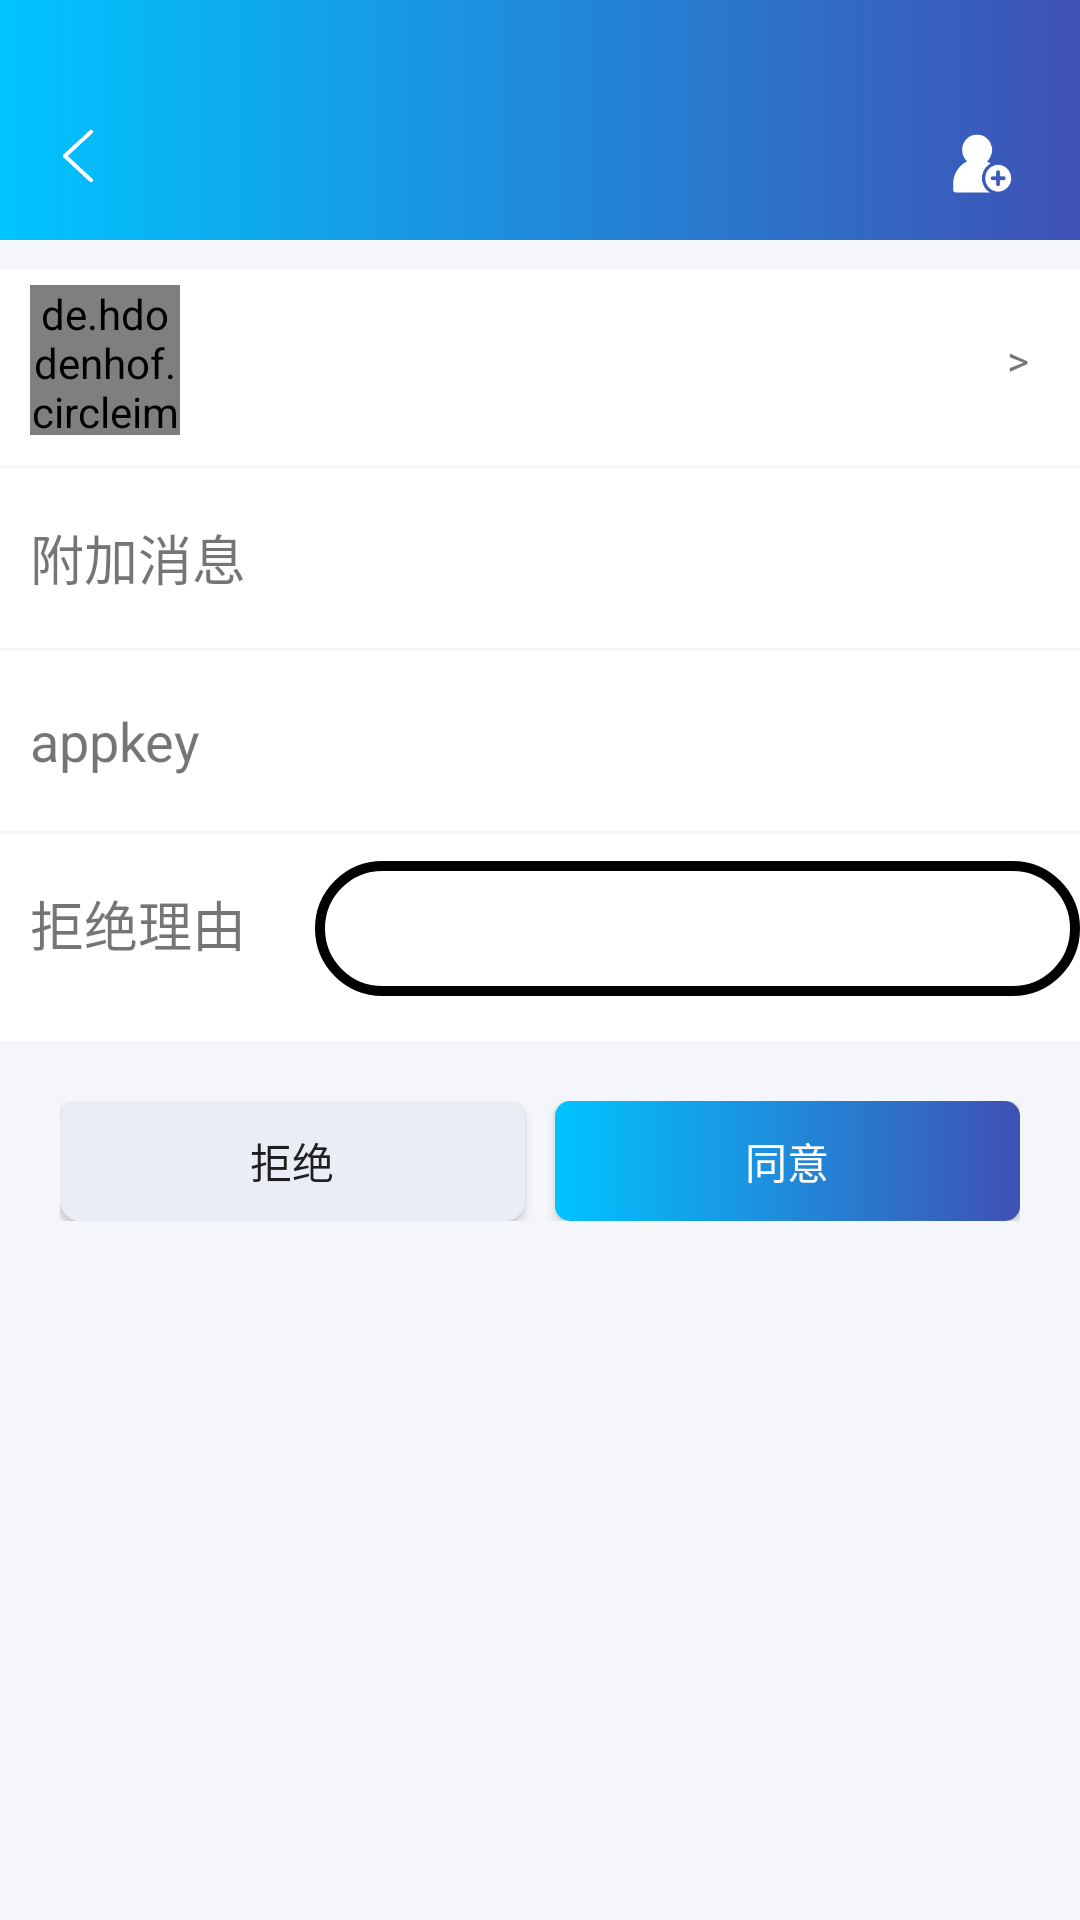

Screen size 1080×1920. Icon name, then its box in pixels as (x1, y1, x2, y2):
addnew: (953, 134, 1012, 193)
back: (63, 129, 94, 182)
